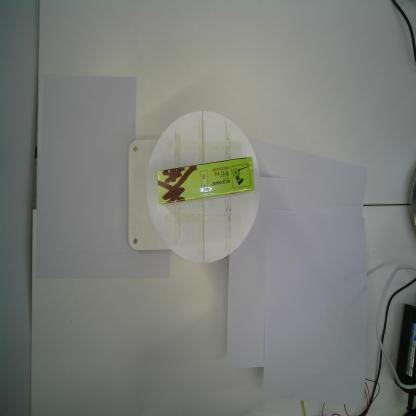Instant Drink: (157, 156, 256, 207)
